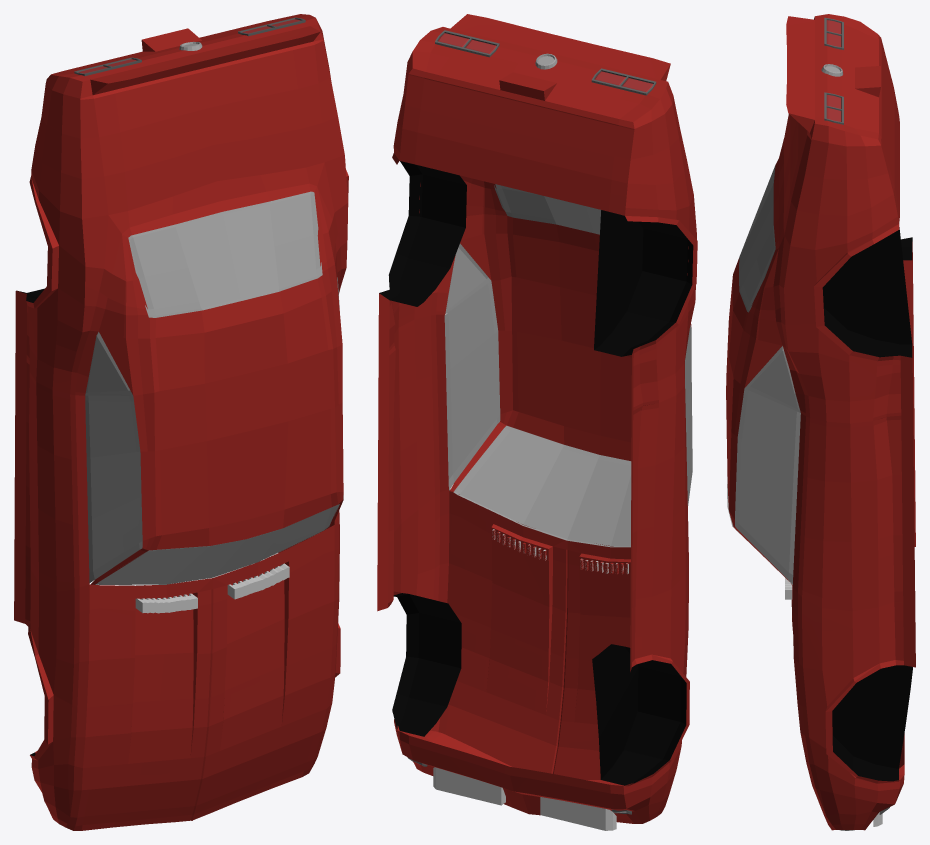
The model's file is Chasis90.obj.
3 renders of one model, left to right at view 1: azimuth 30°, elevation 25°; view 2: azimuth 150°, elevation 25°; view 3: azimuth 270°, elevation 25°, orthographic. The views are drawn at different scales.
Parts seen in each view (by area): view 1: Carroceria_Plano, Parabrisas_Tr_Plano.015, Pueratas_Plano.008, Ventana_1_Plano.013, Parabrisas_Ad_Plano.005, Cubo, Marco_Parabrisad_Tr_Plano.016, Ventana_2_Plano.010, Luz_Tr_Plano.021; view 2: Carroceria_Plano, Pueratas_Plano.008, Parabrisas_Ad_Plano.005, Ventana_1_Plano.013, Plano.002_Plano.019, Parabrisas_Tr_Plano.015, Luz_Tr_Plano.021, Ventana_2_Plano.010, Carroceria_2_Plano.003; view 3: Carroceria_Plano, Pueratas_Plano.008, Ventana_1_Plano.013, Parabrisas_Tr_Plano.015, Ventana_2_Plano.010, Luz_Tr_Plano.021, Marco_Ventana_2_Plano.012.
Part boxes in pixels (x1,y1,x2,y2): Carroceria_Plano: [14, 14, 348, 830]; Parabrisas_Tr_Plano.015: [130, 194, 320, 315]; Pueratas_Plano.008: [29, 372, 339, 591]; Ventana_1_Plano.013: [85, 395, 343, 582]; Parabrisas_Ad_Plano.005: [96, 505, 337, 584]; Cubo: [135, 563, 289, 613]; Marco_Parabrisad_Tr_Plano.016: [128, 191, 322, 317]; Ventana_2_Plano.010: [87, 337, 127, 392]; Luz_Tr_Plano.021: [74, 17, 305, 76]; Carroceria_Plano: [377, 14, 697, 823]; Pueratas_Plano.008: [393, 314, 688, 599]; Parabrisas_Ad_Plano.005: [455, 426, 631, 546]; Ventana_1_Plano.013: [444, 281, 692, 505]; Plano.002_Plano.019: [433, 767, 616, 830]; Parabrisas_Tr_Plano.015: [495, 184, 600, 234]; Luz_Tr_Plano.021: [435, 30, 656, 95]; Ventana_2_Plano.010: [447, 248, 690, 335]; Carroceria_2_Plano.003: [424, 731, 511, 766]; Carroceria_Plano: [726, 14, 915, 830]; Pueratas_Plano.008: [792, 413, 894, 611]; Ventana_1_Plano.013: [735, 355, 800, 583]; Parabrisas_Tr_Plano.015: [739, 167, 774, 309]; Ventana_2_Plano.010: [750, 351, 797, 408]; Luz_Tr_Plano.021: [824, 17, 843, 124]; Marco_Ventana_2_Plano.012: [744, 346, 800, 412].
Bounding box in the file's own units: 3.92 × 9.85 × 2.33.
